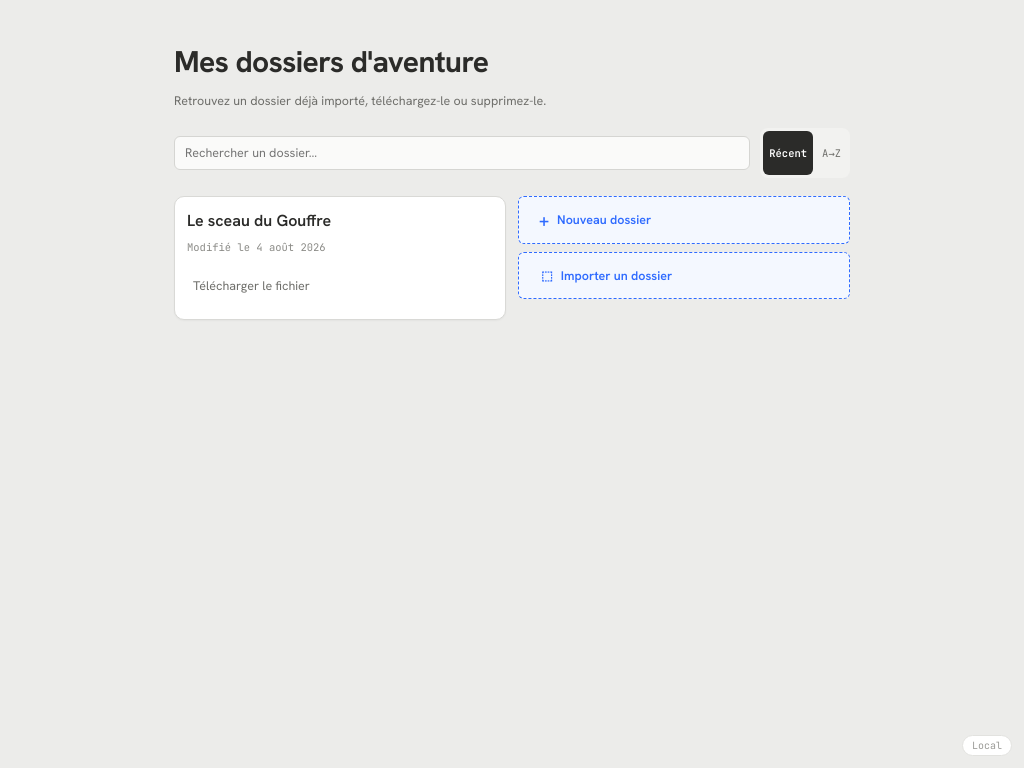
Test: book-library — dossiers › filtre par recherche et affiche un message d absence de resultat
Type "zzz" into the field labelled "Rechercher un dossier…" at [462, 153], box [174,136,750,170]
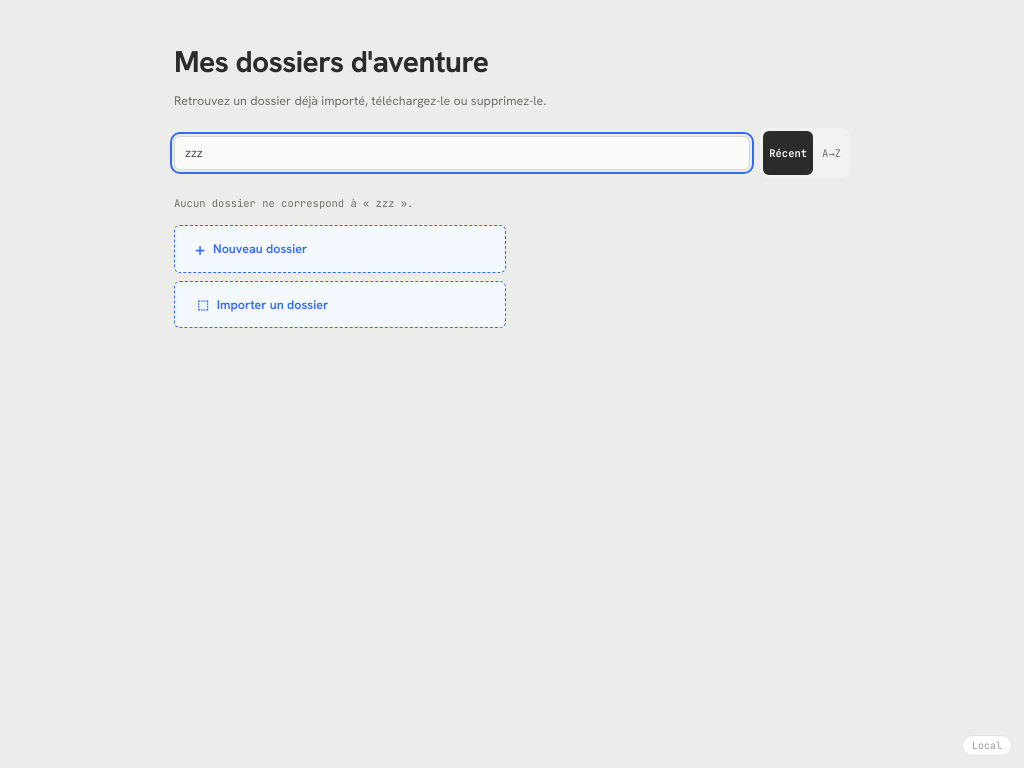
Now the text "Aucun dossier ne correspond à « zzz »." is shown, box [174,196,413,210]
Now the button "Le sceau du Gouffre" is gone
